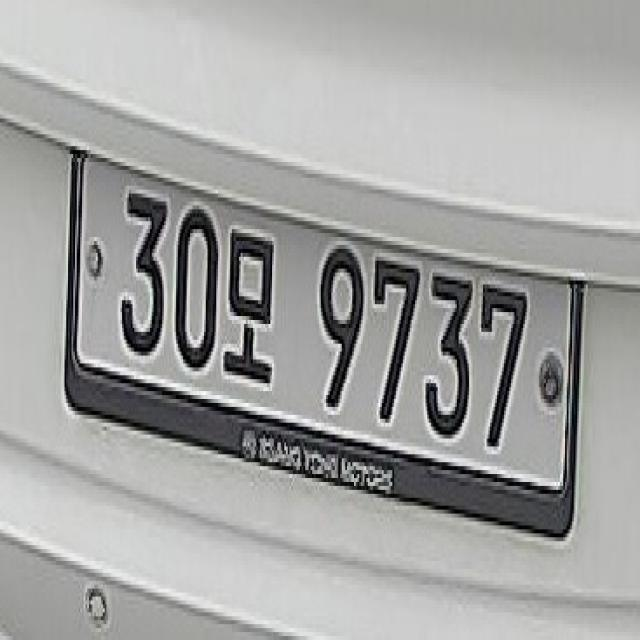plat: (62, 147, 588, 541)
